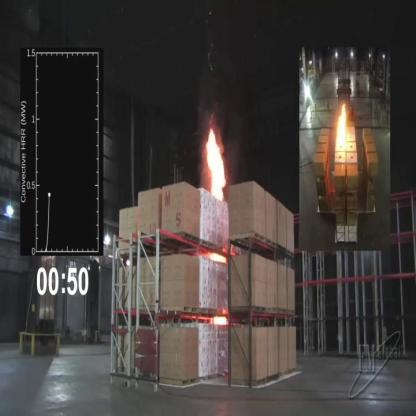fire: (203, 120, 228, 208)
